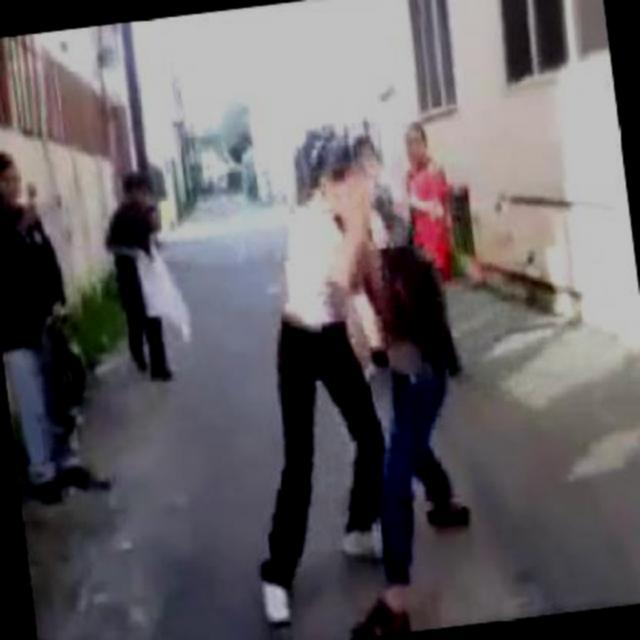fight: (260, 111, 468, 634)
